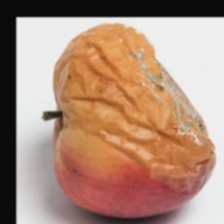apple: (36, 0, 212, 201)
